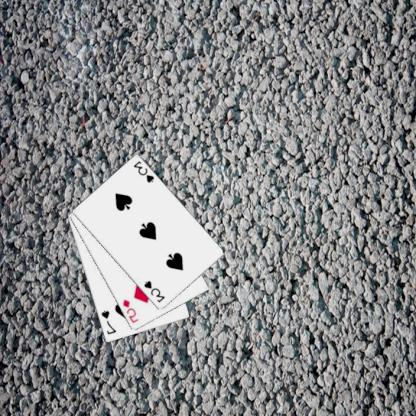3S: (132, 158, 158, 184), (143, 278, 168, 304)
5D: (122, 296, 141, 324)
7S: (100, 308, 119, 336)
